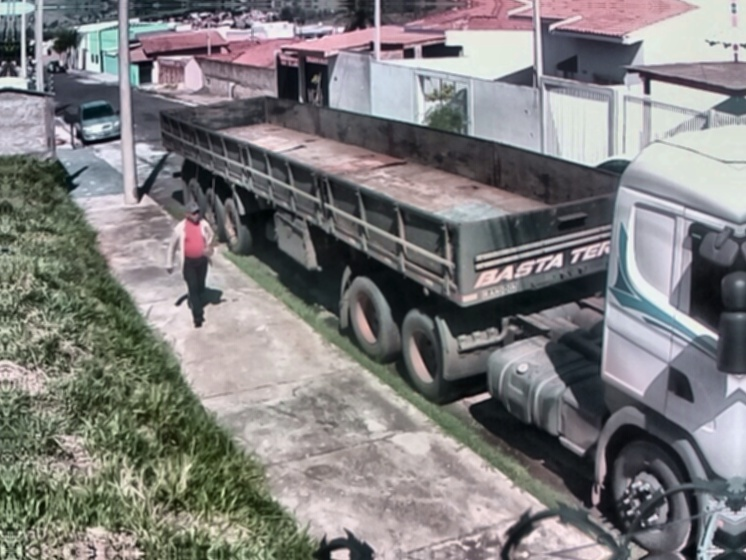person: (166, 199, 221, 329)
